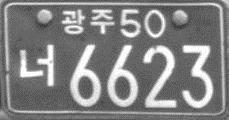0: (144, 8, 166, 39)
2: (141, 43, 177, 109)
3: (179, 43, 214, 109)
5: (119, 8, 141, 39)
6: (68, 42, 102, 108), (105, 43, 138, 107)
광주_O: (61, 6, 116, 36)
너: (17, 43, 55, 87)
